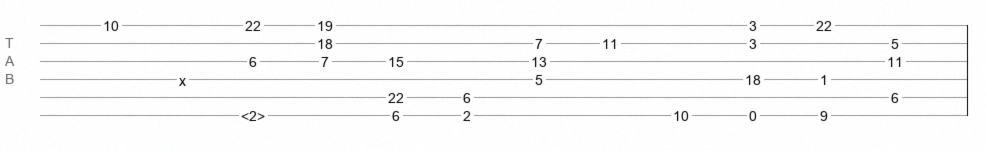0: (749, 108, 757, 118)
1: (820, 72, 828, 82)
10: (103, 18, 119, 28), (673, 108, 689, 118)
11: (602, 36, 618, 46), (887, 54, 903, 64)
13: (531, 54, 547, 64)
15: (388, 54, 404, 64)
18: (317, 36, 333, 46), (745, 72, 761, 82)
19: (317, 18, 333, 28)
2: (463, 108, 471, 118)
22: (245, 18, 261, 28), (388, 90, 404, 100), (816, 18, 832, 28)
3: (749, 36, 757, 46), (749, 18, 757, 28)
5: (535, 72, 543, 82), (891, 36, 899, 46)
6: (249, 54, 257, 64), (392, 108, 400, 118), (463, 90, 471, 100), (891, 90, 899, 100)
7: (321, 54, 329, 64), (535, 36, 543, 46)
9: (820, 108, 828, 118)
harmonic: (241, 108, 265, 118)
x: (179, 73, 186, 81)
